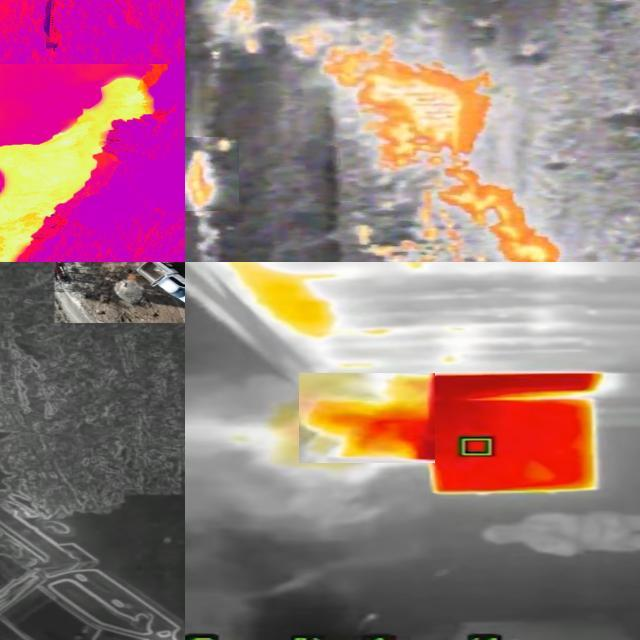fire: (287, 28, 573, 260), (1, 77, 159, 263), (310, 372, 446, 462), (225, 264, 354, 349), (186, 137, 240, 211), (218, 1, 273, 55)
